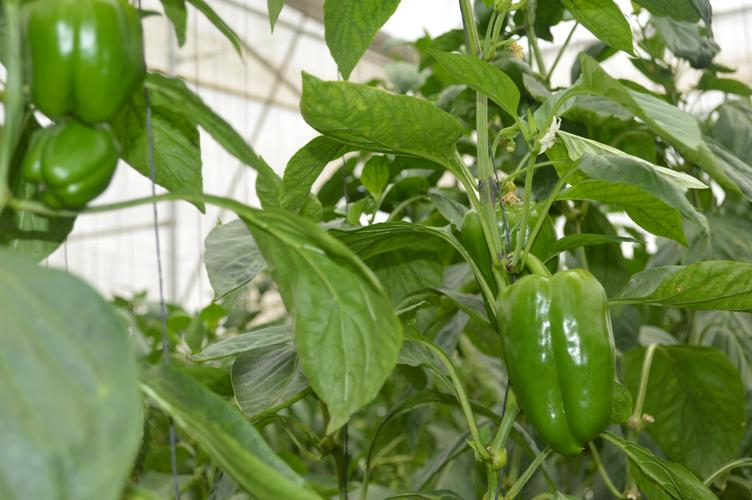BellPepper: (497, 258, 625, 458), (14, 2, 150, 125), (4, 115, 123, 217)
